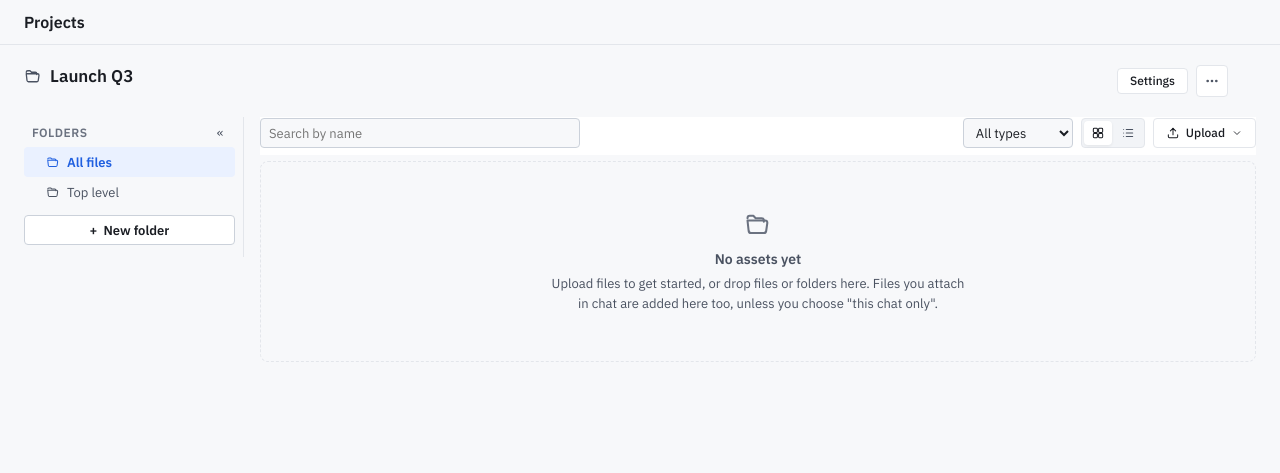
Test: ProjectsSurface settings page › Settings replaces the asset list with the settings page, and pressing it again goes back
What coordinates should you click on to do the following:
click the button with test id "project-settings-button"
I would click on:
 (1152, 81)
Its box is [1117, 68, 1188, 94].
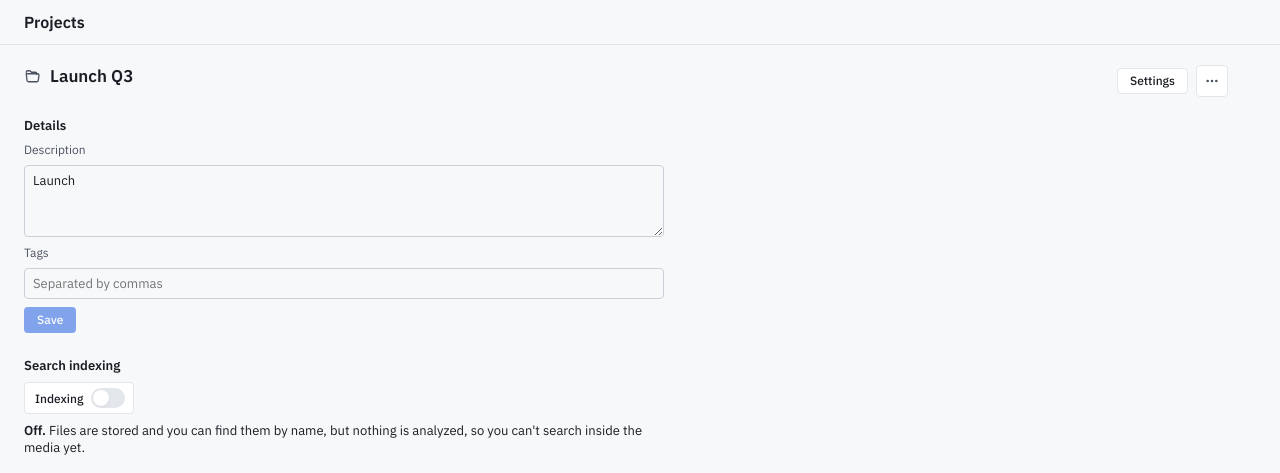
Check: the element with test id "project-settings" is shown, box [24, 117, 664, 456]
Check: the text "No assets yet" is gone
What coordinates should you click on to do the following:
click the button with test id "project-settings-button"
I would click on:
 (1152, 81)
Its box is [1117, 68, 1188, 94].
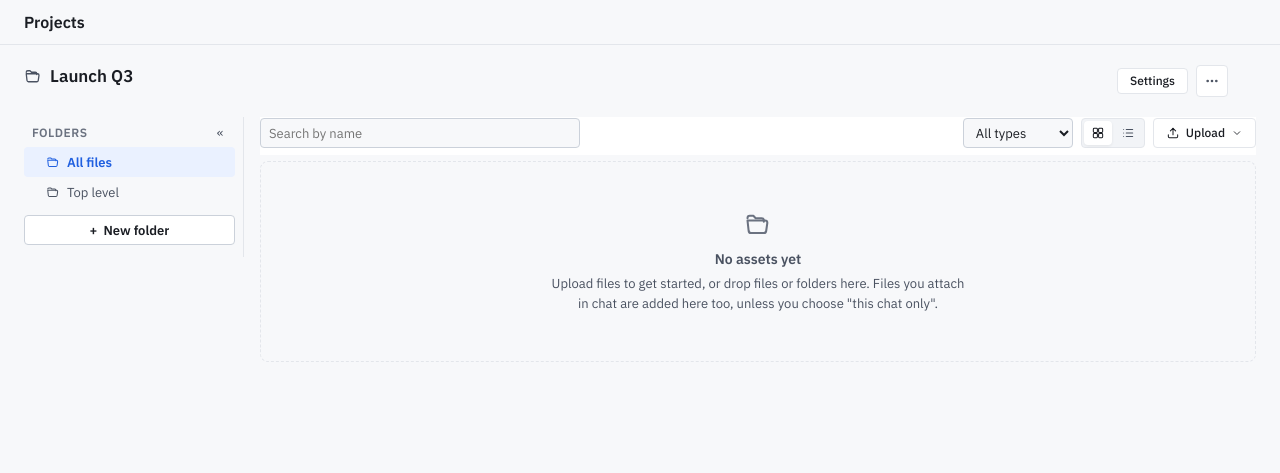
Check: the element with test id "project-settings" is gone
